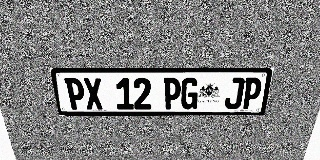1: (115, 78, 134, 110)
2: (133, 78, 151, 109)
G: (180, 78, 199, 109)
J: (224, 78, 245, 109)
P: (64, 78, 86, 110), (241, 78, 263, 109), (163, 78, 181, 109)
X: (83, 78, 104, 110)
